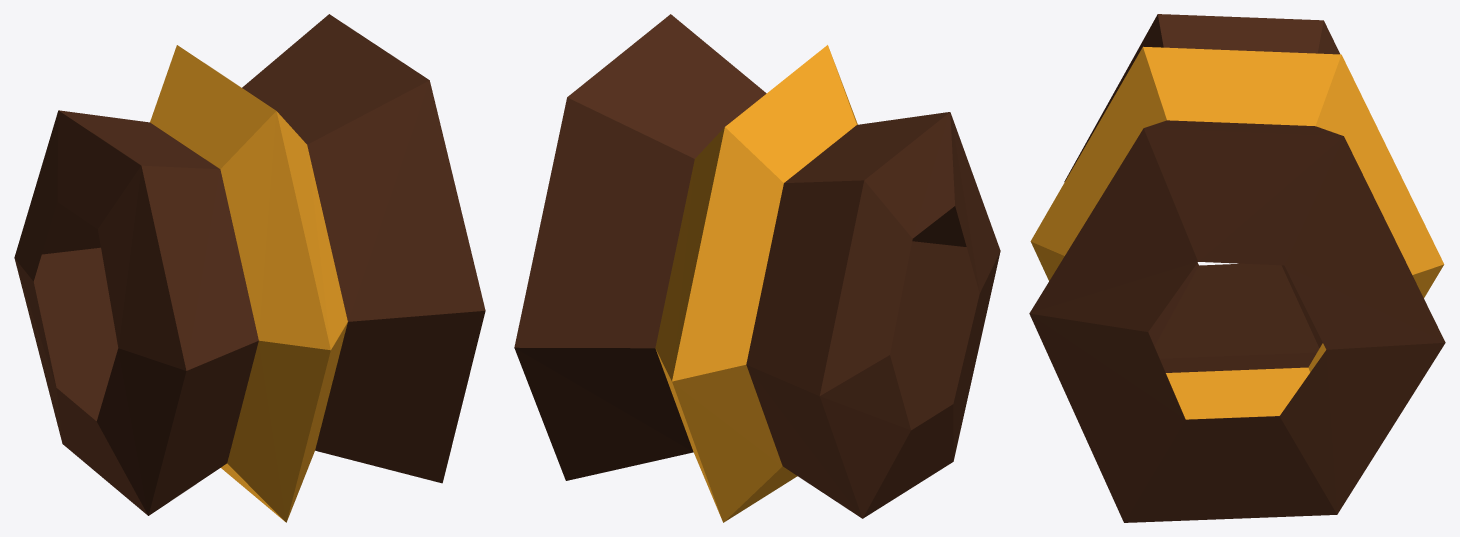
Rendered from Bracer 03.FBX.
The picture shows the model from 3 angles, left to right: view 1: azimuth 30°, elevation 25°; view 2: azimuth 150°, elevation 25°; view 3: azimuth 270°, elevation 25°; orthographic projection. The views are drawn at different scales.
Parts seen in each view (by area): view 1: Bracer 03; view 2: Bracer 03; view 3: Bracer 03.
Boxes of the visible parts, box(x1,y1,x2,y2) form: Bracer 03: box(14, 14, 485, 522); Bracer 03: box(514, 14, 1000, 522); Bracer 03: box(1029, 14, 1445, 522).
Bounding box in the file's own units: 9.79 × 11.37 × 10.62.
